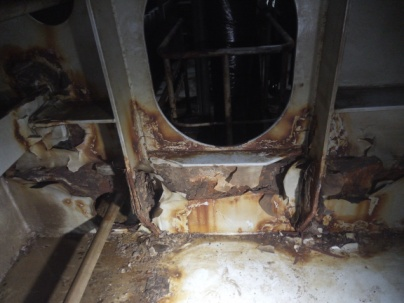corrosion: (280, 205, 398, 262), (0, 39, 88, 108), (313, 145, 404, 206), (123, 100, 209, 154), (158, 155, 251, 204), (96, 260, 187, 302), (12, 167, 120, 202), (251, 167, 300, 238), (19, 126, 106, 161), (247, 112, 312, 148), (123, 163, 160, 223), (113, 234, 204, 257), (161, 203, 224, 236)
